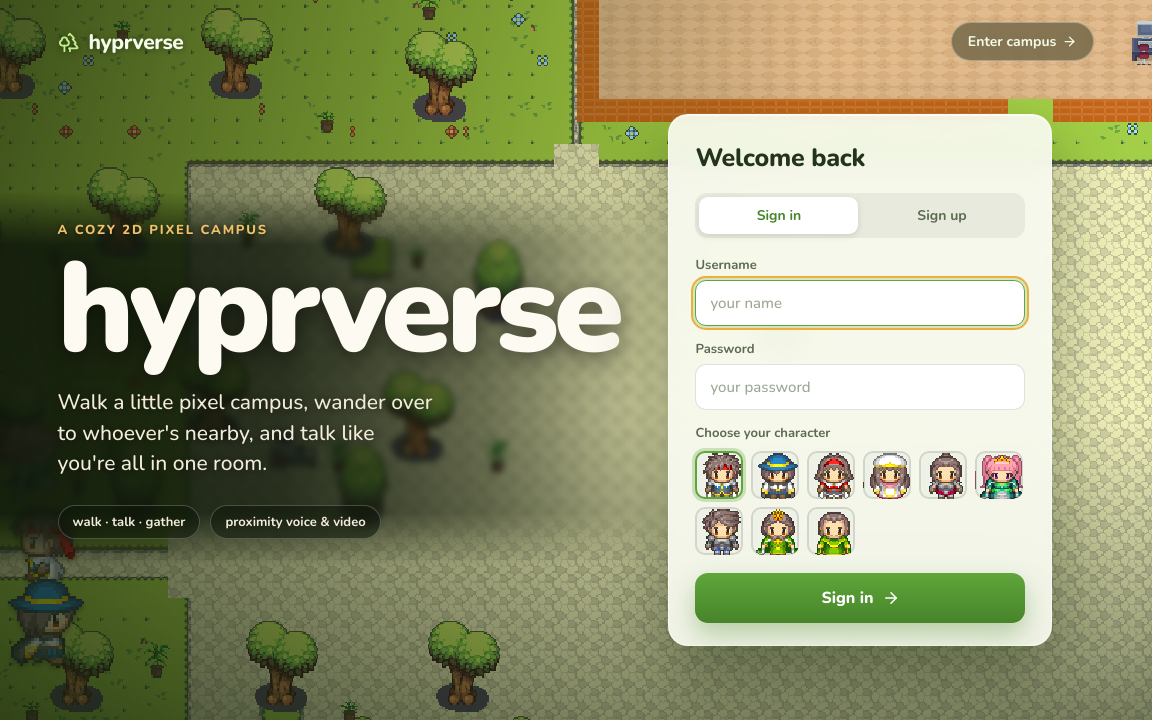
Scenario: Landing › requires username and password
Click the 2nd button "Sign in".
click(860, 598)  # box [696,573,1026,623]
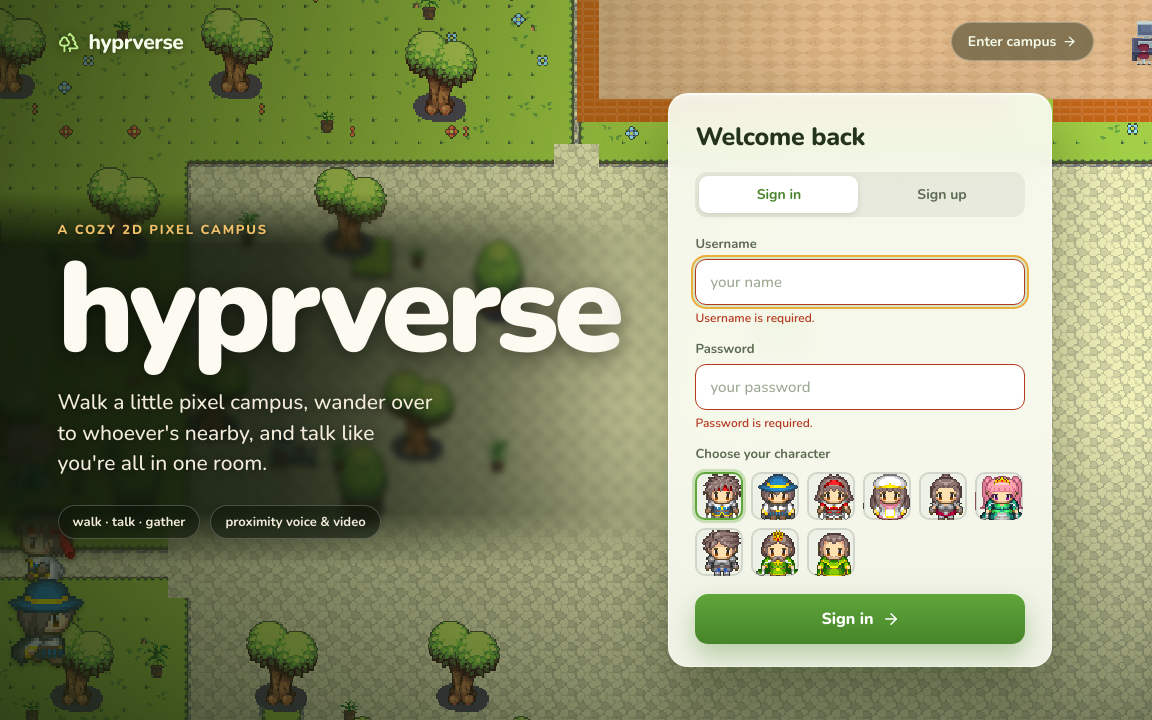
Expected: the text "Username is required." is shown, [696,310,815,326]
Expected: the text "Password is required." is shown, [696,415,813,431]
